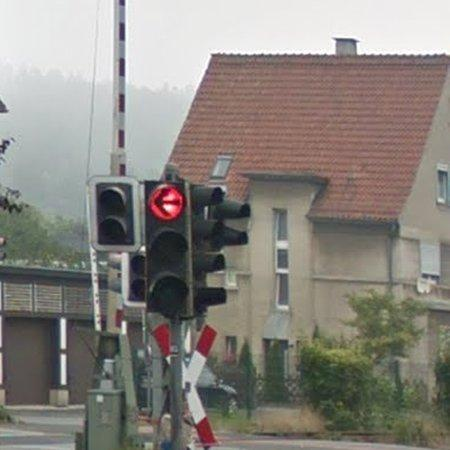chimneys: (336, 39, 357, 55)
